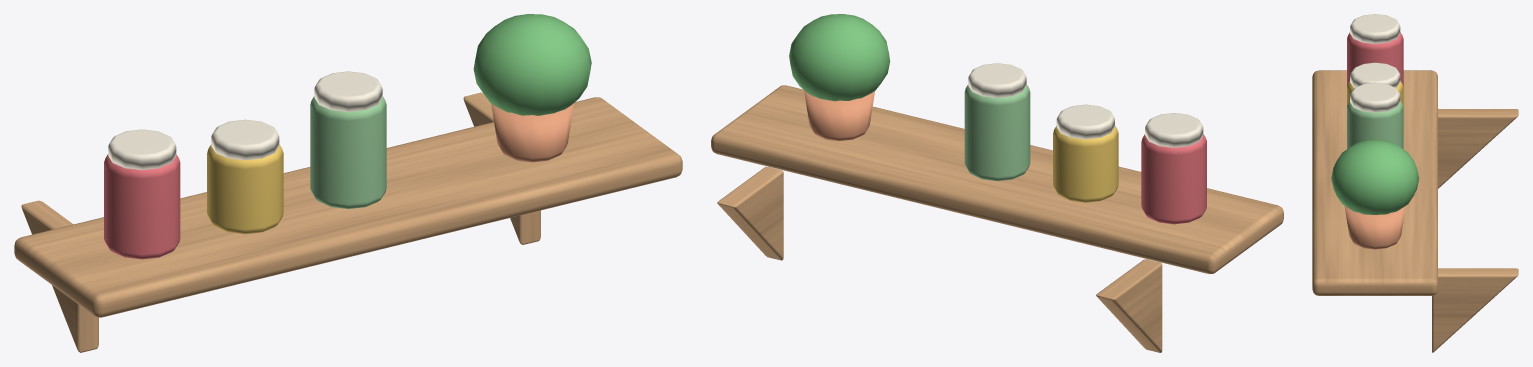
The model's file is prop_wall_shelf.glb.
The picture shows the model from 3 angles, left to right: view 1: azimuth 30°, elevation 25°; view 2: azimuth 150°, elevation 25°; view 3: azimuth 270°, elevation 25°; orthographic projection. The views are drawn at different scales.
Visible parts, largest first — view 1: prop_wall_shelf; view 2: prop_wall_shelf; view 3: prop_wall_shelf.
Part boxes in pixels (x1,y1,x2,y2): prop_wall_shelf: (14, 14, 682, 352); prop_wall_shelf: (711, 14, 1283, 352); prop_wall_shelf: (1312, 14, 1518, 352).
Bounding box in the file's own units: 1 × 0.4225 × 0.41.
7 materials, 1 textured.
